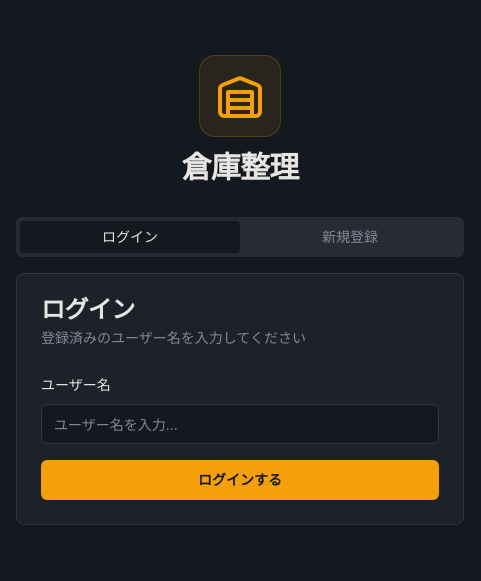
Scenario: LoginPage — 管理者パスワードフロー › PASSWORD_REQUIREDエラーが返るとパスワード欄が表示される
In the field with placeholder "ユーザー名を入力...": x=240, y=424 x1=41 y1=404 x2=439 y2=444, type "admin"
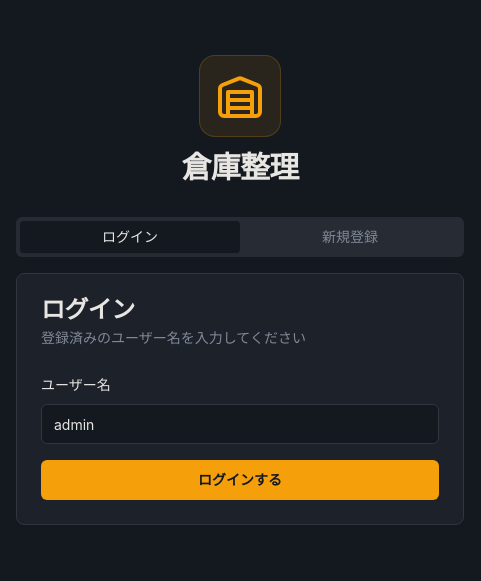
Click the button: x=240, y=480 x1=41 y1=460 x2=439 y2=500
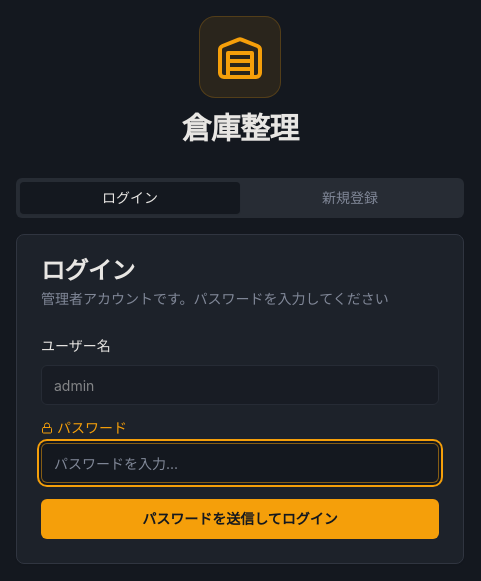
Expected: the password field with placeholder "パスワードを入力..." is shown, x1=41 y1=443 x2=439 y2=483
